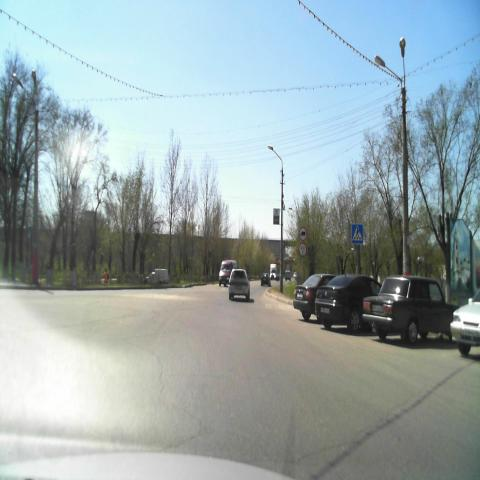3_13: (298, 242, 307, 257)
3_4_1: (299, 226, 306, 242)
5_19_1: (351, 222, 363, 244)
